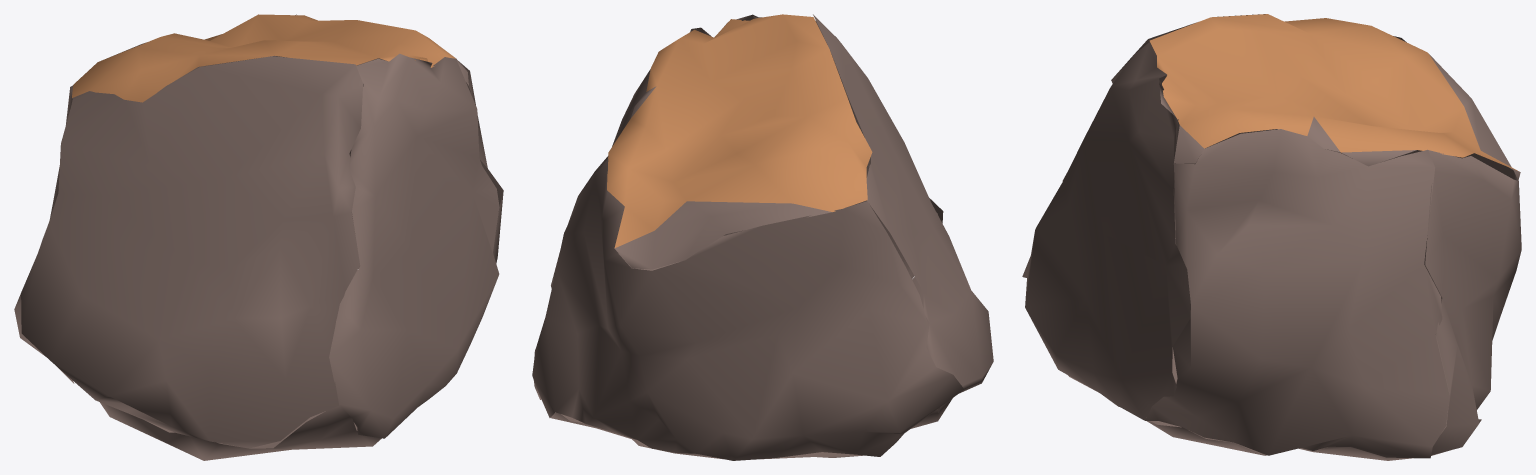
The model's file is rock_small_a.glb.
3 renders of one model, left to right at view 1: azimuth 30°, elevation 25°; view 2: azimuth 150°, elevation 25°; view 3: azimuth 270°, elevation 25°, orthographic. The views are drawn at different scales.
Parts seen in each view (by area): view 1: rock_small_a-convcol; view 2: rock_small_a-convcol; view 3: rock_small_a-convcol.
Part boxes in pixels (x1,y1,x2,y2): rock_small_a-convcol: (14, 14, 503, 460); rock_small_a-convcol: (532, 14, 993, 460); rock_small_a-convcol: (1022, 14, 1521, 460).
Bounding box in the file's own units: 0.245 × 0.2015 × 0.2527.
